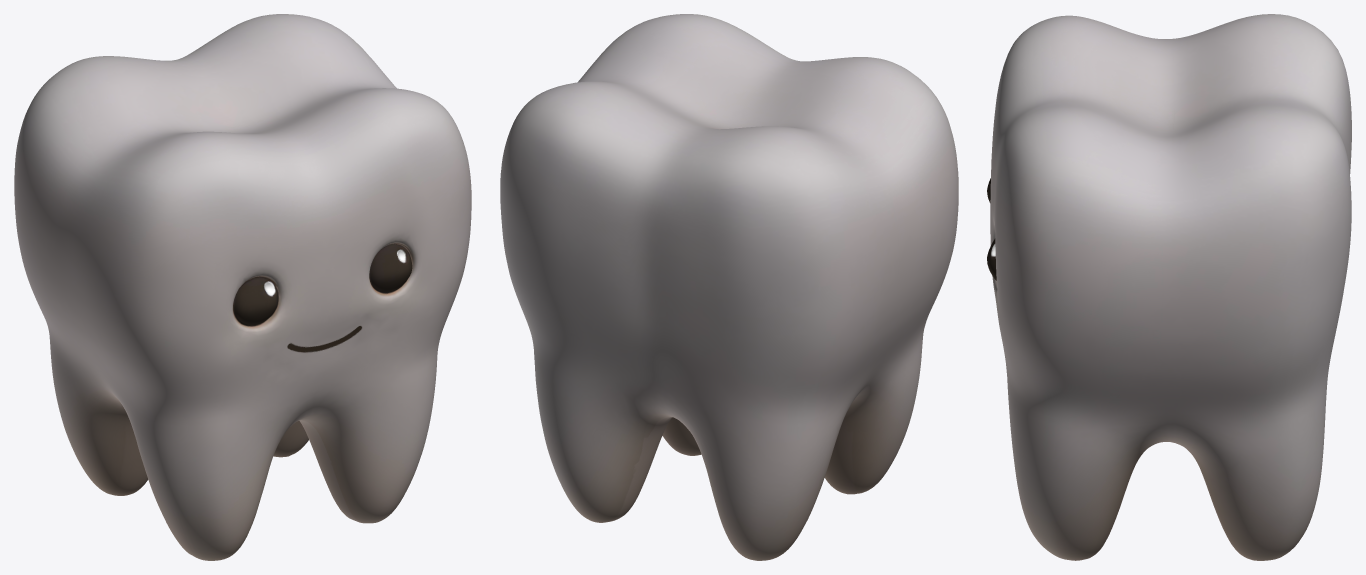
The model's file is tooth.glb.
3 views of the same model, side by side, from view 1: azimuth 30°, elevation 25°; view 2: azimuth 150°, elevation 25°; view 3: azimuth 270°, elevation 25° (orthographic). The views are drawn at different scales.
Visible parts, largest first — view 1: part_0000.001; view 2: part_0000.001; view 3: part_0000.001.
Part boxes in pixels (x1,y1,x2,y2): part_0000.001: (14, 14, 471, 560); part_0000.001: (500, 14, 958, 560); part_0000.001: (987, 14, 1351, 560).
Size of the model in its own units: 0.8596 by 0.9557 by 0.7146.
Materials: 1 (1 with a texture image).
